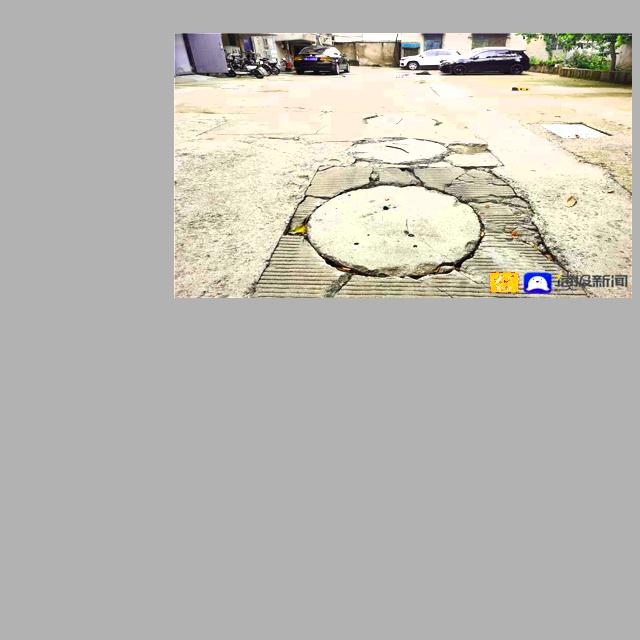broke: (276, 152, 545, 289)
